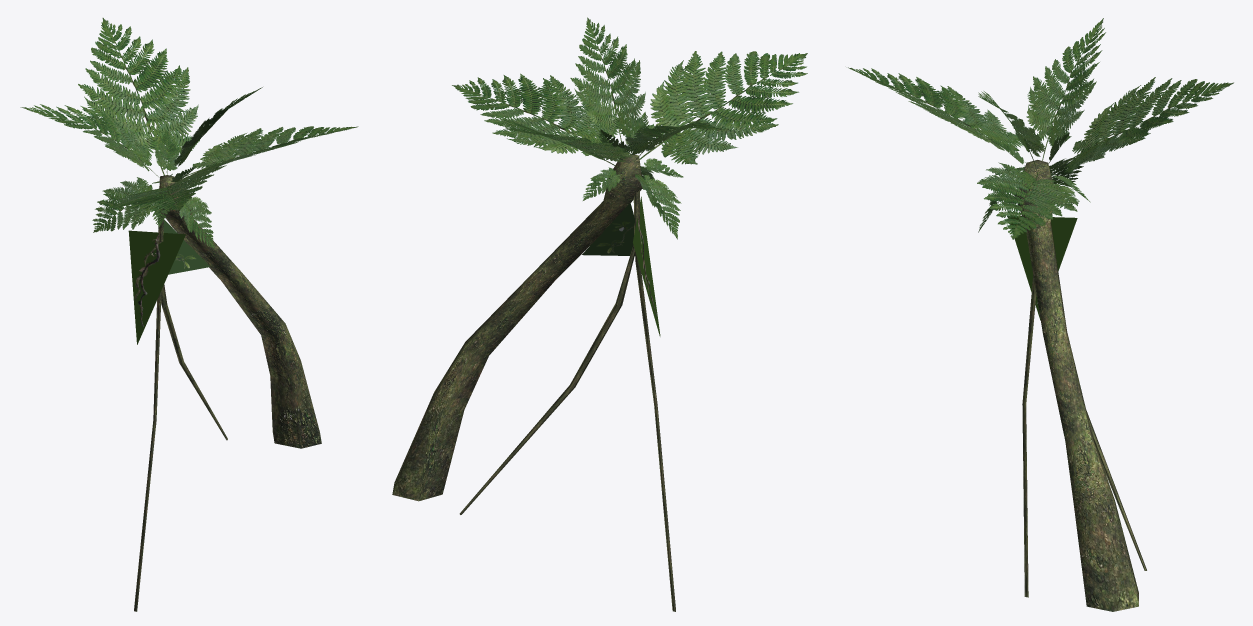
The model's file is fern_ferntree_vines_l0.fbx.
The picture shows the model from 3 angles, left to right: view 1: azimuth 30°, elevation 25°; view 2: azimuth 150°, elevation 25°; view 3: azimuth 270°, elevation 25°; orthographic projection. The views are drawn at different scales.
Visible parts, largest first — view 1: mesh_node; view 2: mesh_node; view 3: mesh_node.
Boxes of the visible parts, x1,y1,x2,y2 form: mesh_node: [20, 18, 358, 611]; mesh_node: [392, 17, 807, 611]; mesh_node: [848, 18, 1233, 611].
Size of the model in its own units: 2.53 by 4.05 by 2.62.
